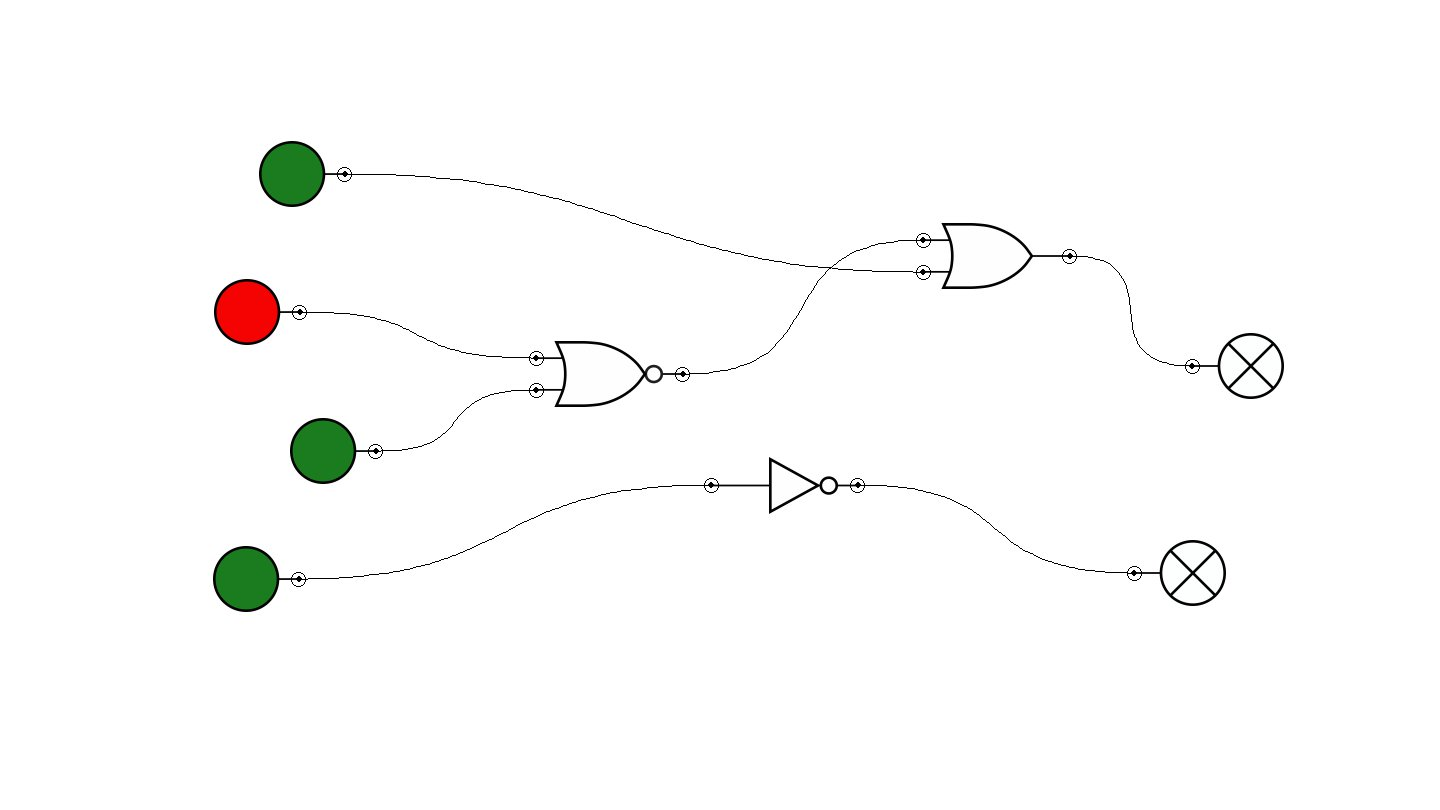bulb: (1127, 540, 1226, 606), (1185, 333, 1284, 399)
nor: (529, 341, 690, 407)
not: (704, 457, 865, 514)
or: (916, 223, 1077, 289)
switch_False: (214, 279, 307, 345)
switch_True: (290, 418, 383, 484), (259, 141, 352, 207), (213, 546, 306, 612)
